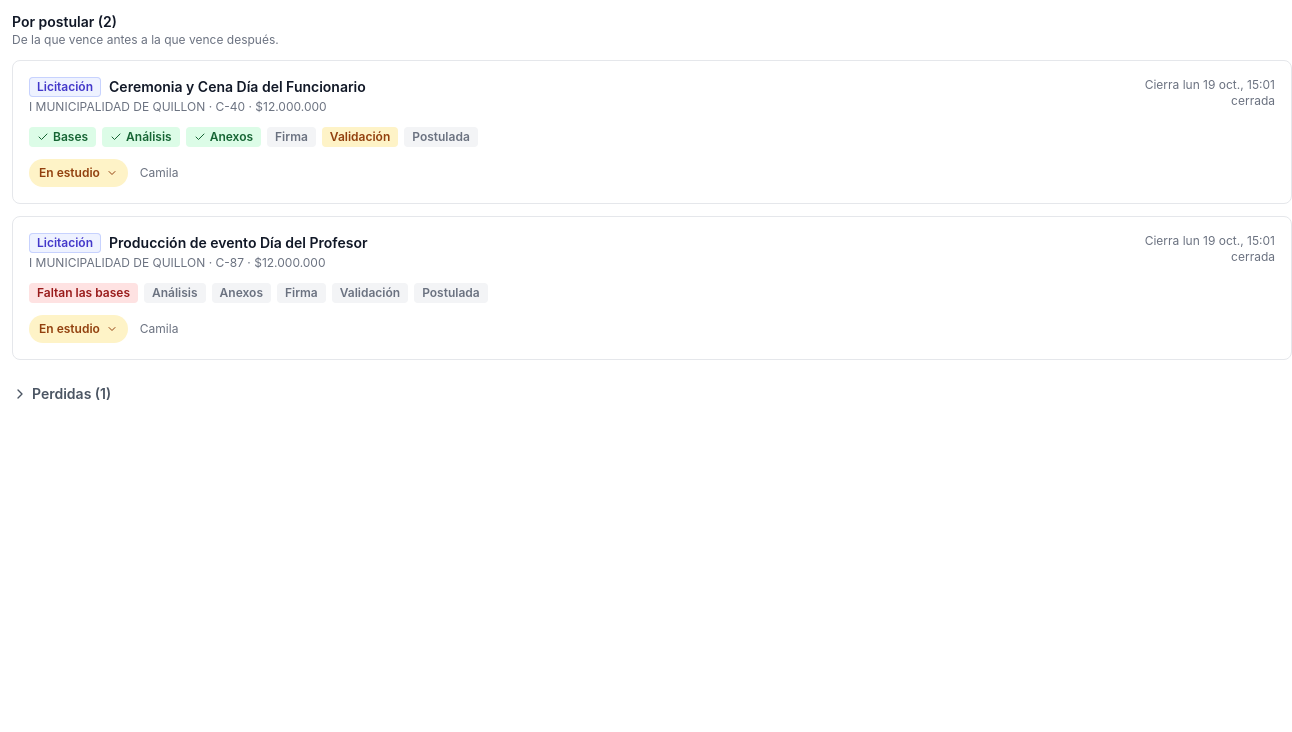
Test: Mis licitaciones › cada una con su avance, el estado y quién la lleva; las perdidas, plegadas al final, y las ganadas en su pestaña (decisión 100)
Expected: the link "Ceremonia y Cena Día del Funcionario" is shown, [109,77,366,97]
Expected: the text "Faltan las bases" is shown, [29,283,138,303]
Click the button "Perdidas (1)": {"x": 62, "y": 394} [12,384,111,404]
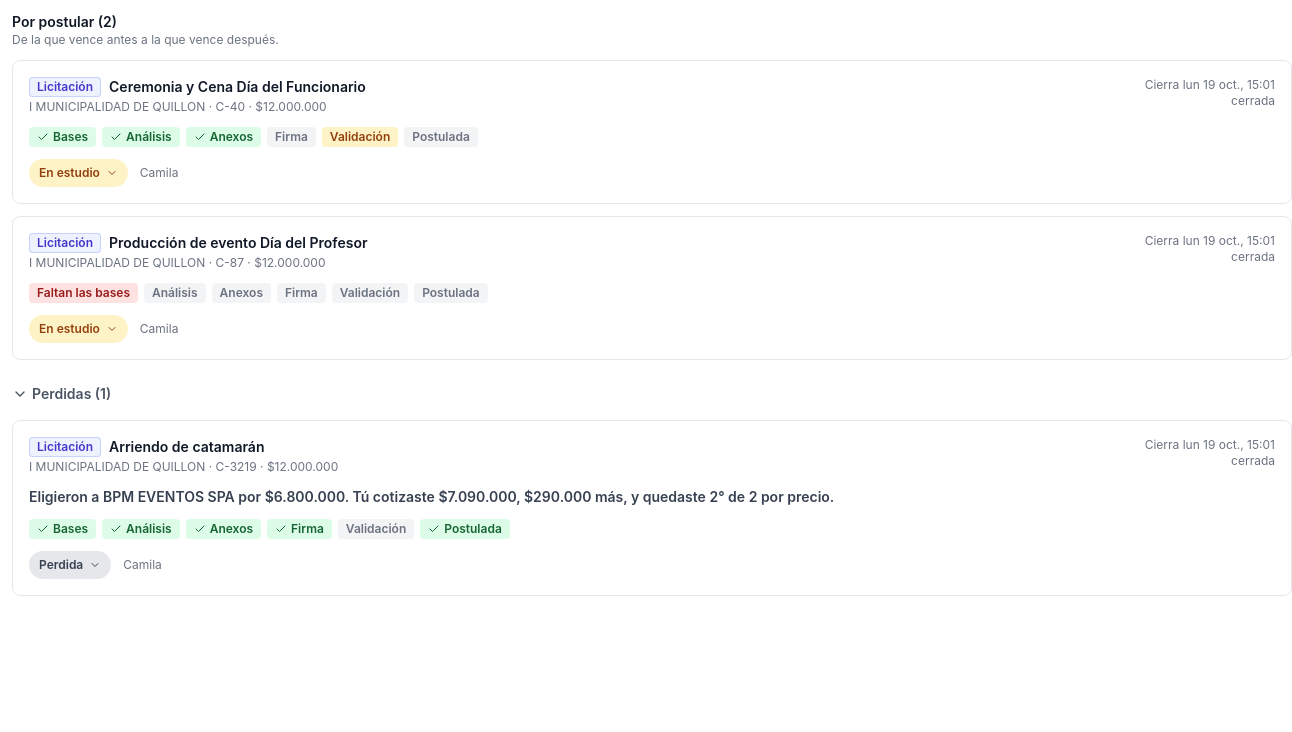
Result: the link "Arriendo de catamarán" is shown at [109,437,264,457]
Result: the text "Eligieron a BPM EVENTOS SPA por $6.800.000." is shown at [29,488,834,505]
